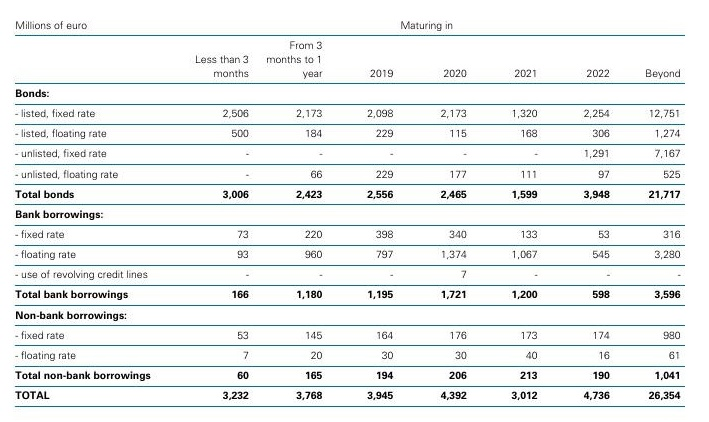table: (0, 0, 709, 422)
